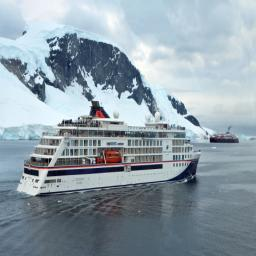cruises: (17, 100, 203, 201)
